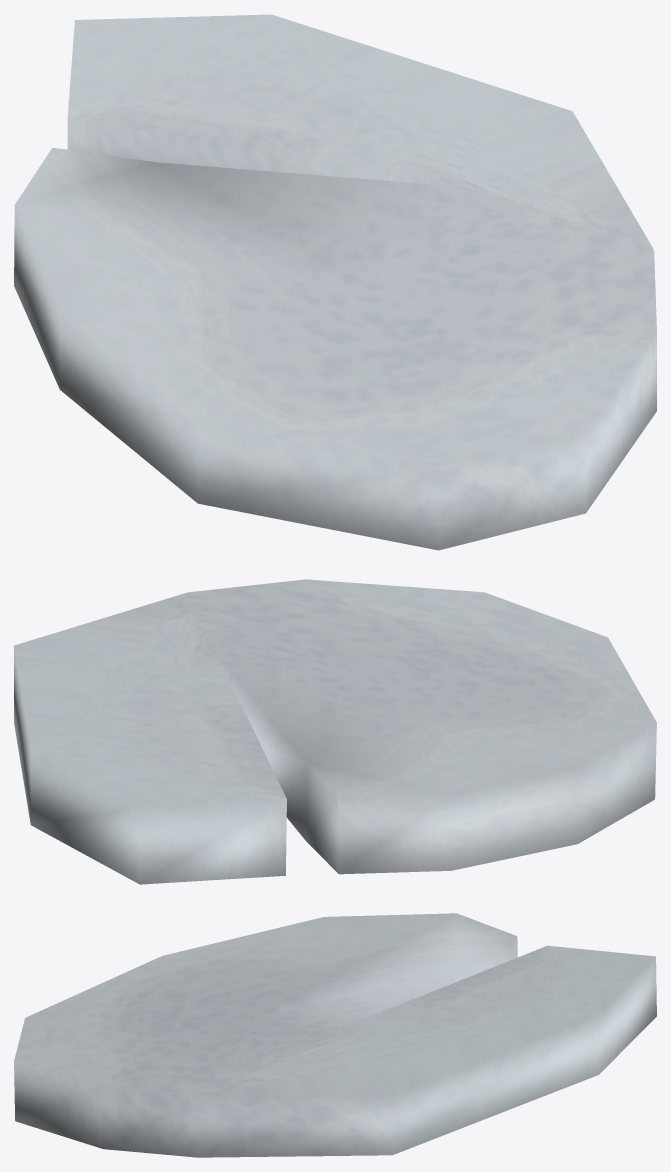
The model's file is Rock_23_Snow.fbx.
3 renders of one model, top to bottom at view 1: azimuth 30°, elevation 25°; view 2: azimuth 150°, elevation 25°; view 3: azimuth 270°, elevation 25°, orthographic. The views are drawn at different scales.
Visible parts, largest first — view 1: Rock_23_Snow; view 2: Rock_23_Snow; view 3: Rock_23_Snow.
Boxes of the visible parts, x1,y1,x2,y2 form: Rock_23_Snow: [14, 14, 656, 550]; Rock_23_Snow: [14, 579, 656, 884]; Rock_23_Snow: [14, 913, 656, 1157].
Bounding box in the file's own units: 193 × 65.63 × 263.
